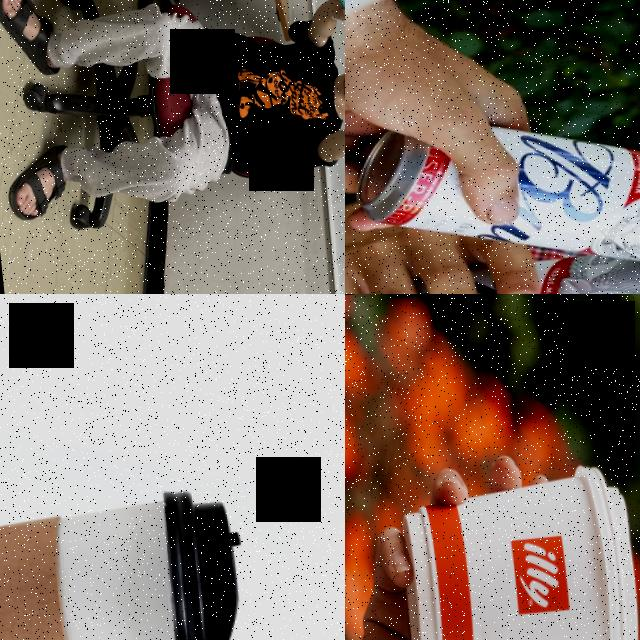can: (351, 88, 640, 294), (355, 240, 640, 294)
cup: (394, 462, 640, 640), (0, 478, 249, 640)
